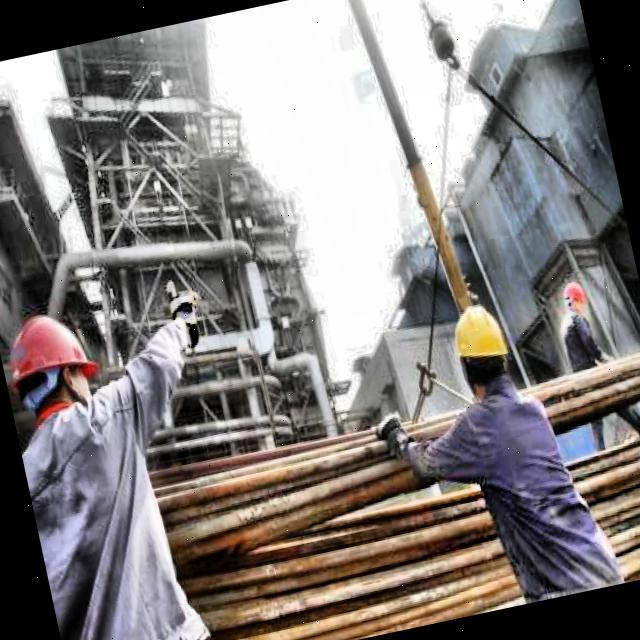helmet: (0, 297, 114, 441), (441, 292, 523, 408), (558, 278, 592, 320)
